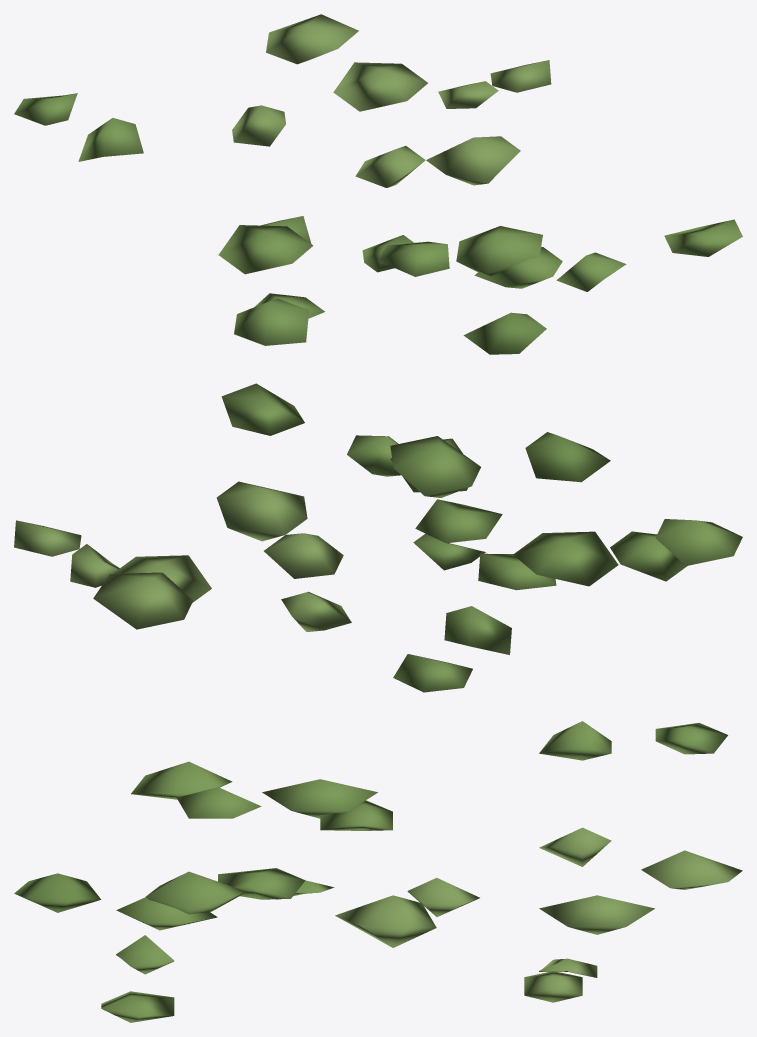
The model's file is canopy-2-0-15.glb.
3 views of the same model, one above another, from view 1: azimuth 30°, elevation 25°; view 2: azimuth 150°, elevation 25°; view 3: azimuth 270°, elevation 25° (orthographic). The views are drawn at different scales.
Bounding box in the file's own units: 105 × 20 × 125.
1 material, 1 textured.
